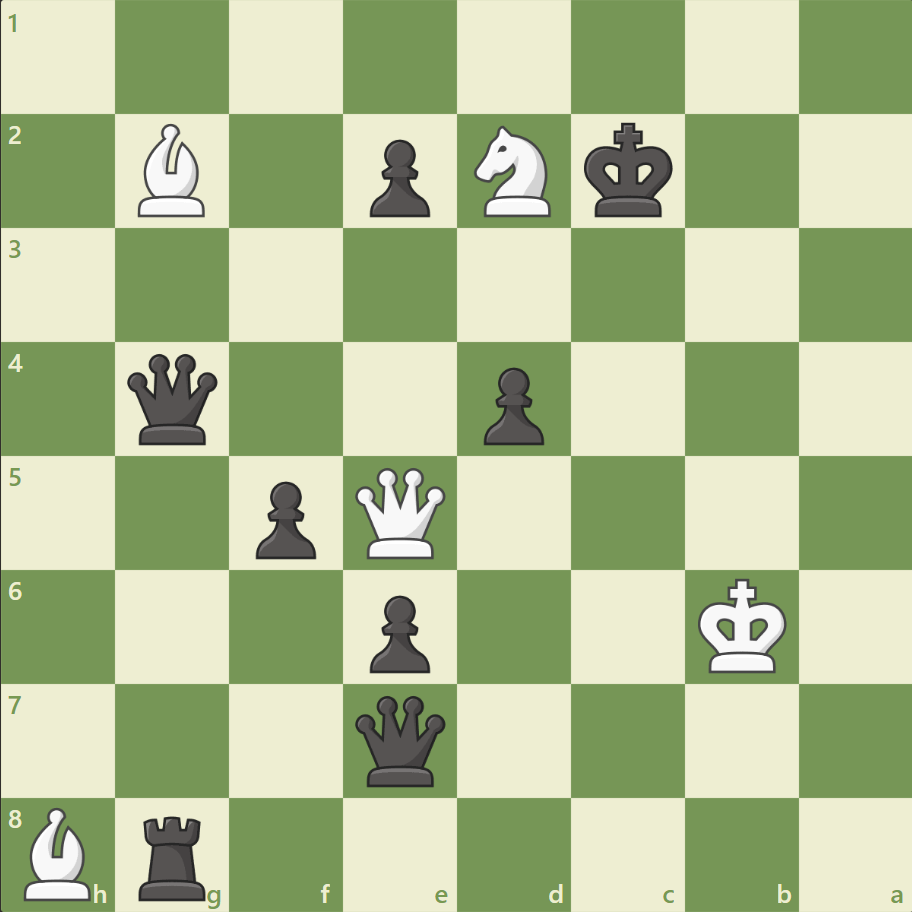B: (17, 801, 101, 904), (131, 120, 215, 222)
K: (692, 571, 792, 679)
N: (465, 121, 562, 223)
Q: (351, 463, 450, 562)
k: (579, 117, 679, 225)
p: (247, 473, 322, 564), (474, 359, 549, 450), (361, 586, 435, 677), (361, 132, 435, 223)
q: (124, 349, 223, 449), (351, 690, 450, 789)
r: (133, 806, 215, 904)
